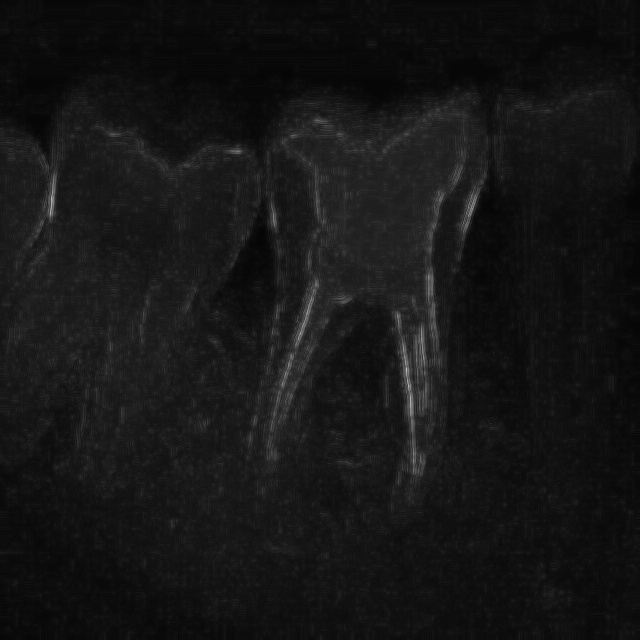Class 0- No endodontic treatment: (243, 76, 512, 566)
cavity: (7, 84, 255, 561)
